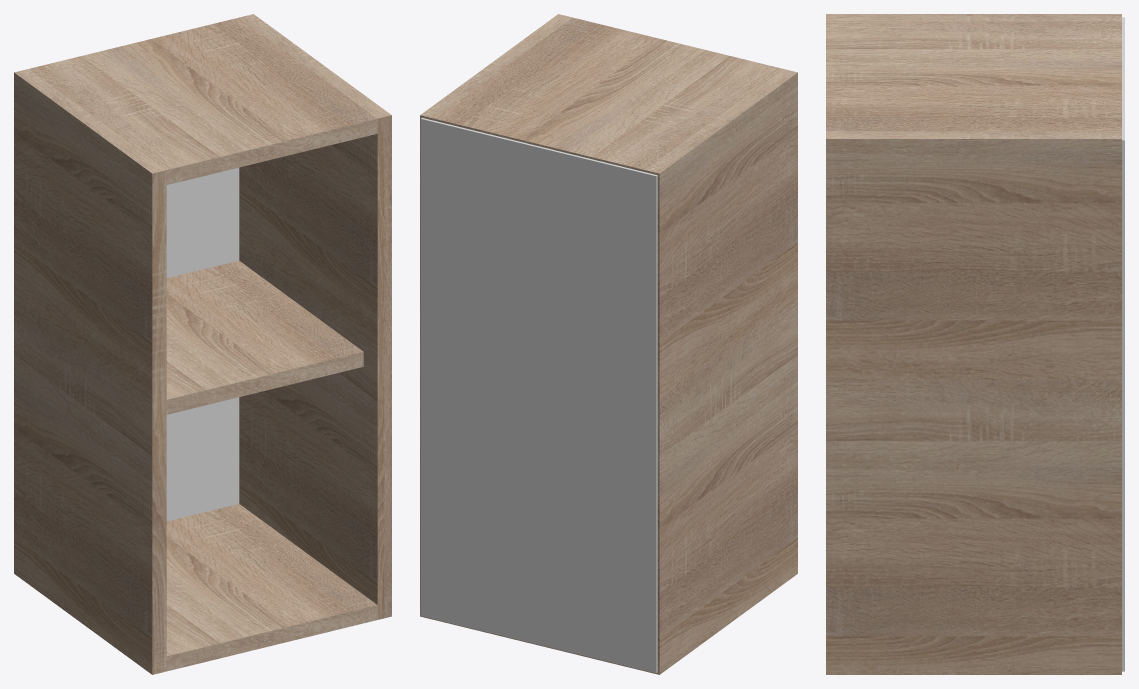
Rendered from s_fny_30.glb.
The picture shows the model from 3 angles, left to right: view 1: azimuth 30°, elevation 25°; view 2: azimuth 150°, elevation 25°; view 3: azimuth 270°, elevation 25°; orthographic projection. The views are drawn at different scales.
Parts seen in each view (by area): view 1: s_fny_30_korpusz; view 2: s_fny_30_korpusz; view 3: s_fny_30_korpusz.
Part boxes in pixels (x1,y1,x2,y2): s_fny_30_korpusz: (14, 14, 391, 674); s_fny_30_korpusz: (420, 14, 797, 674); s_fny_30_korpusz: (826, 14, 1124, 674).
Bounding box in the file's own units: 0.3 × 0.6 × 0.303.
Materials: 2 (1 with a texture image).
